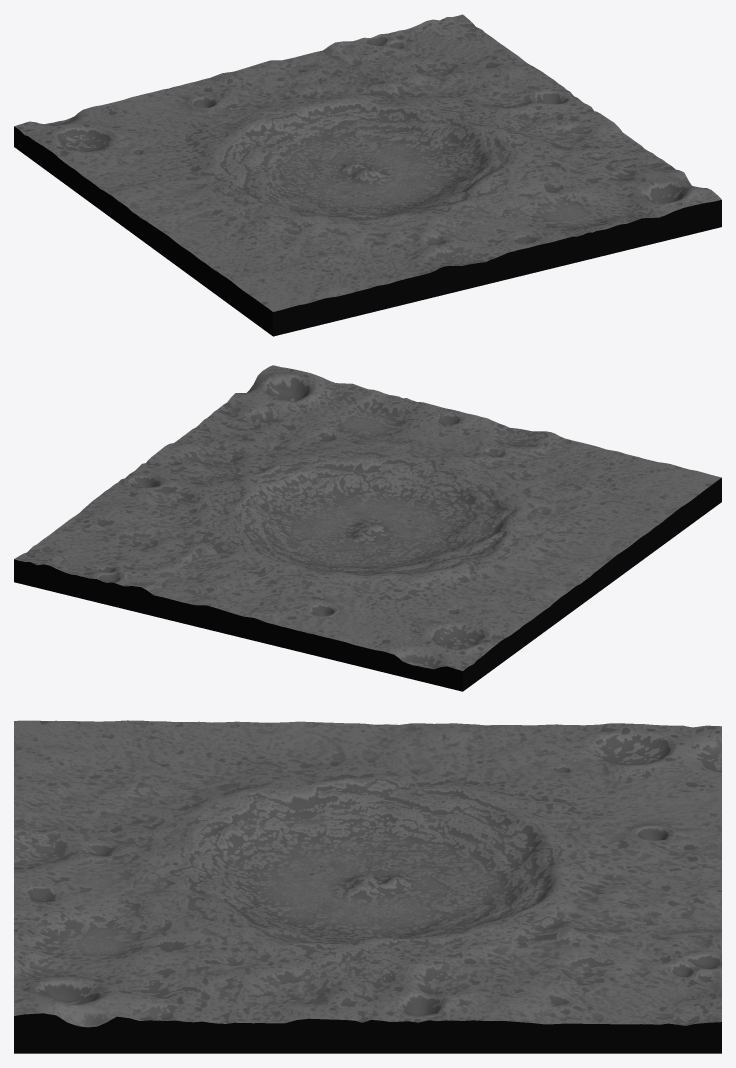
Rendered from moon_floor.glb.
3 views of the same model, one above another, from view 1: azimuth 30°, elevation 25°; view 2: azimuth 150°, elevation 25°; view 3: azimuth 270°, elevation 25° (orthographic). The views are drawn at different scales.
Parts seen in each view (by area): view 1: LAngrenus_LP; view 2: LAngrenus_LP; view 3: LAngrenus_LP.
Part boxes in pixels (bbox=[...]): LAngrenus_LP: bbox=[14, 14, 721, 336]; LAngrenus_LP: bbox=[14, 365, 721, 691]; LAngrenus_LP: bbox=[14, 720, 721, 1053].
Size of the model in its own units: 2499 by 170 by 2499.
2 materials, 1 textured.
